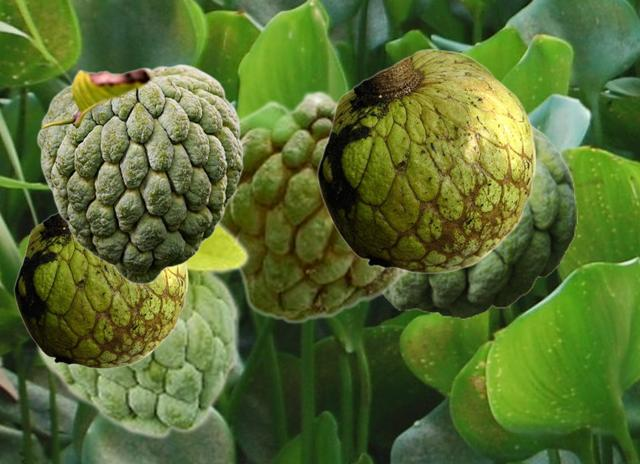atis: (316, 48, 535, 273), (35, 222, 250, 439), (36, 63, 242, 283), (222, 89, 409, 323), (382, 122, 576, 318), (13, 212, 187, 368)
